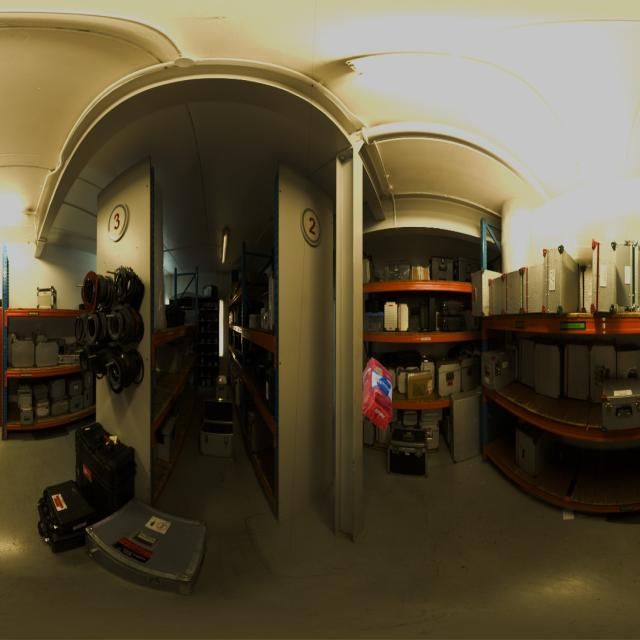mate bag: (362, 356, 393, 429)
